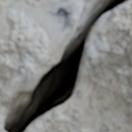broken_brick: (27, 2, 131, 131), (0, 0, 76, 131)
crack: (2, 0, 131, 131)
